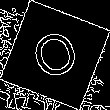O_SE: (25, 23, 85, 87)
